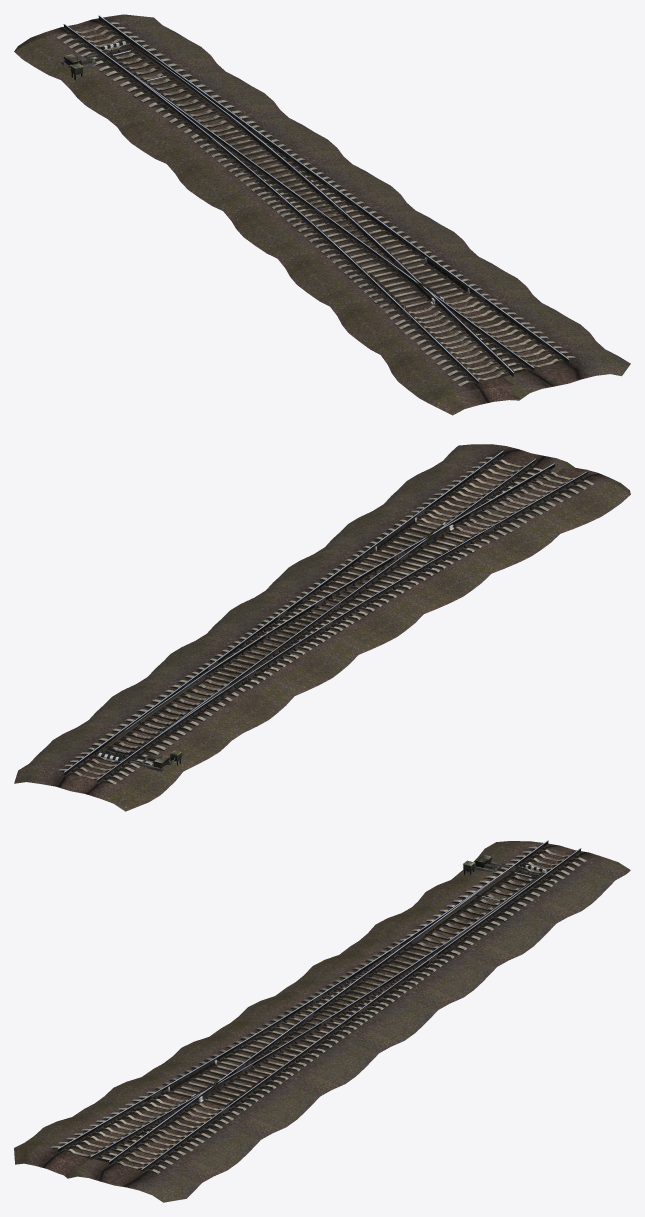
File: TSM_Jction_1l9_L_Nz.gltf
3 views of the same model, one above another, from view 1: azimuth 30°, elevation 25°; view 2: azimuth 150°, elevation 25°; view 3: azimuth 330°, elevation 25° (orthographic). The views are drawn at different scales.
Size of the model in its own units: 8.93 by 0.9462 by 38.97.
Materials: 1 (1 with a texture image).
